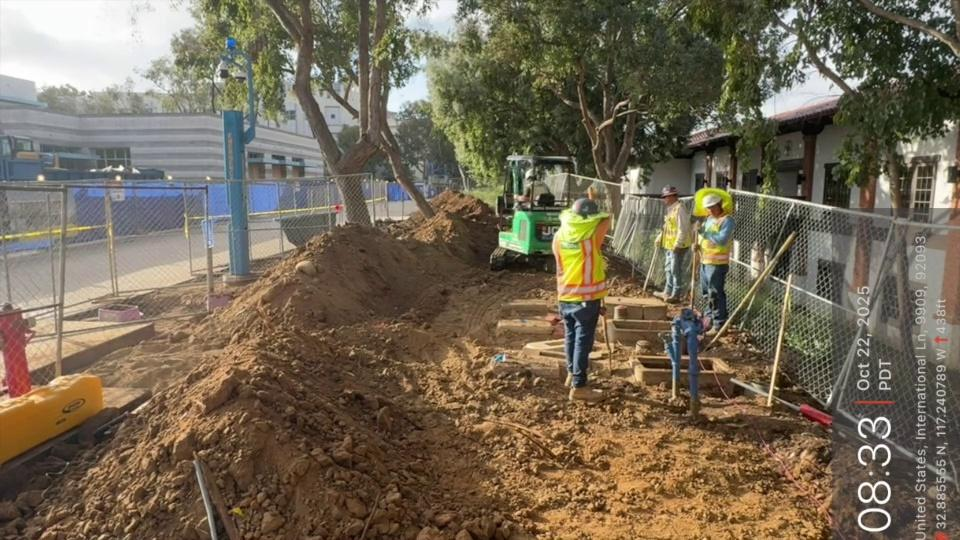Exacavator: (487, 151, 580, 273)
